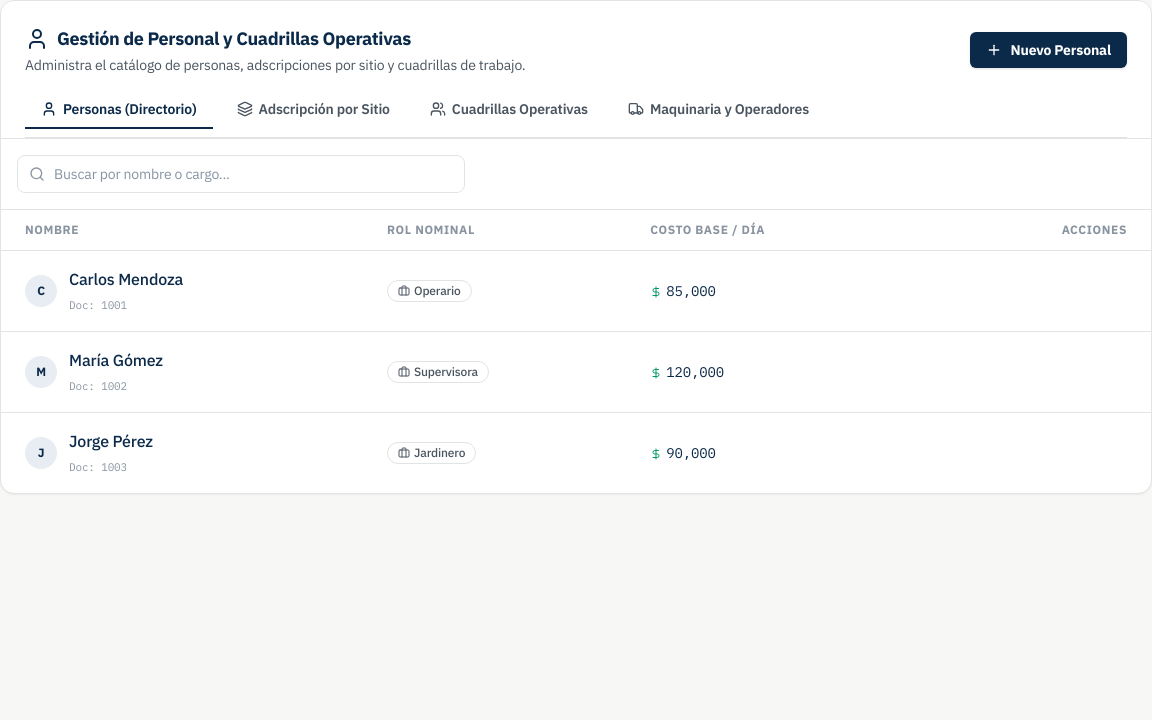
Scenario: CUADRILLAS-PERSONAL-FASE-2.4 — Crew Membership & Staffing UX (TC-CRW-01..12) › TC-CRW-09: activeVersion === null -> muestra estado explícito de Sin Versión de Dotación Publicada
Click the button "Adscripción por Sitio": coordinates (313, 110) [220,91,406,129]
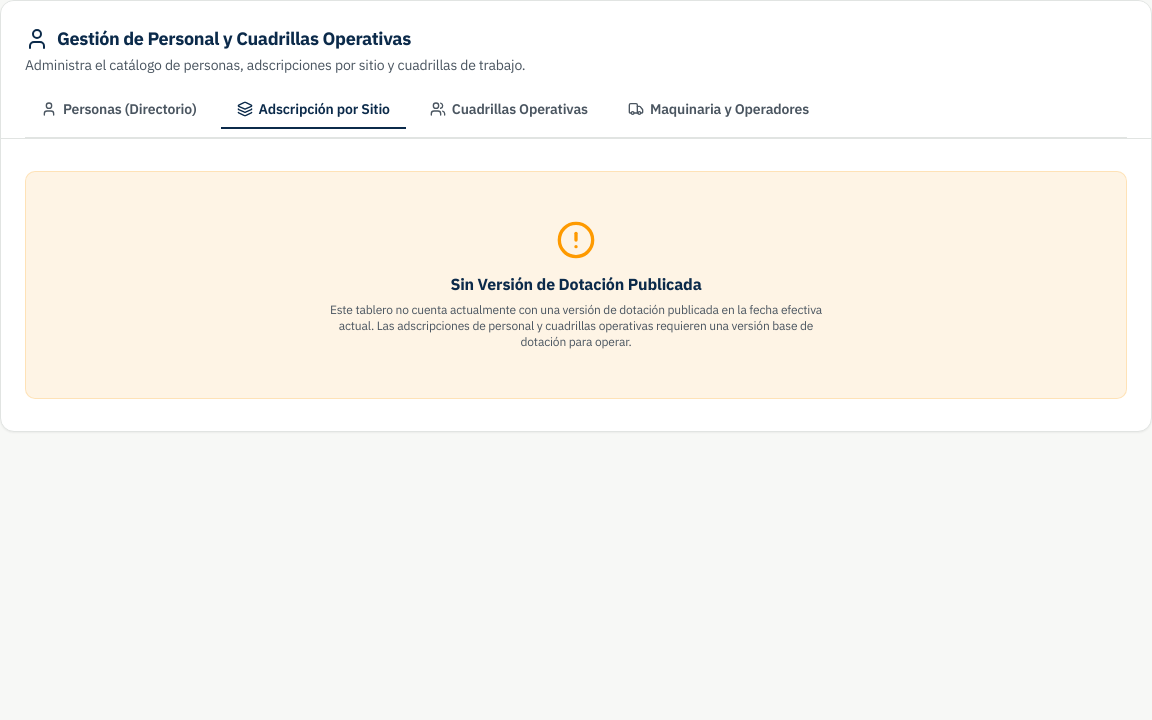
Expected: the heading "Sin Versión de Dotación Publicada" is shown, [450,274,702,294]
Expected: the text "Este tablero no cuenta actualmente con una versión de dotación publicada" is shown, [330,302,822,349]
